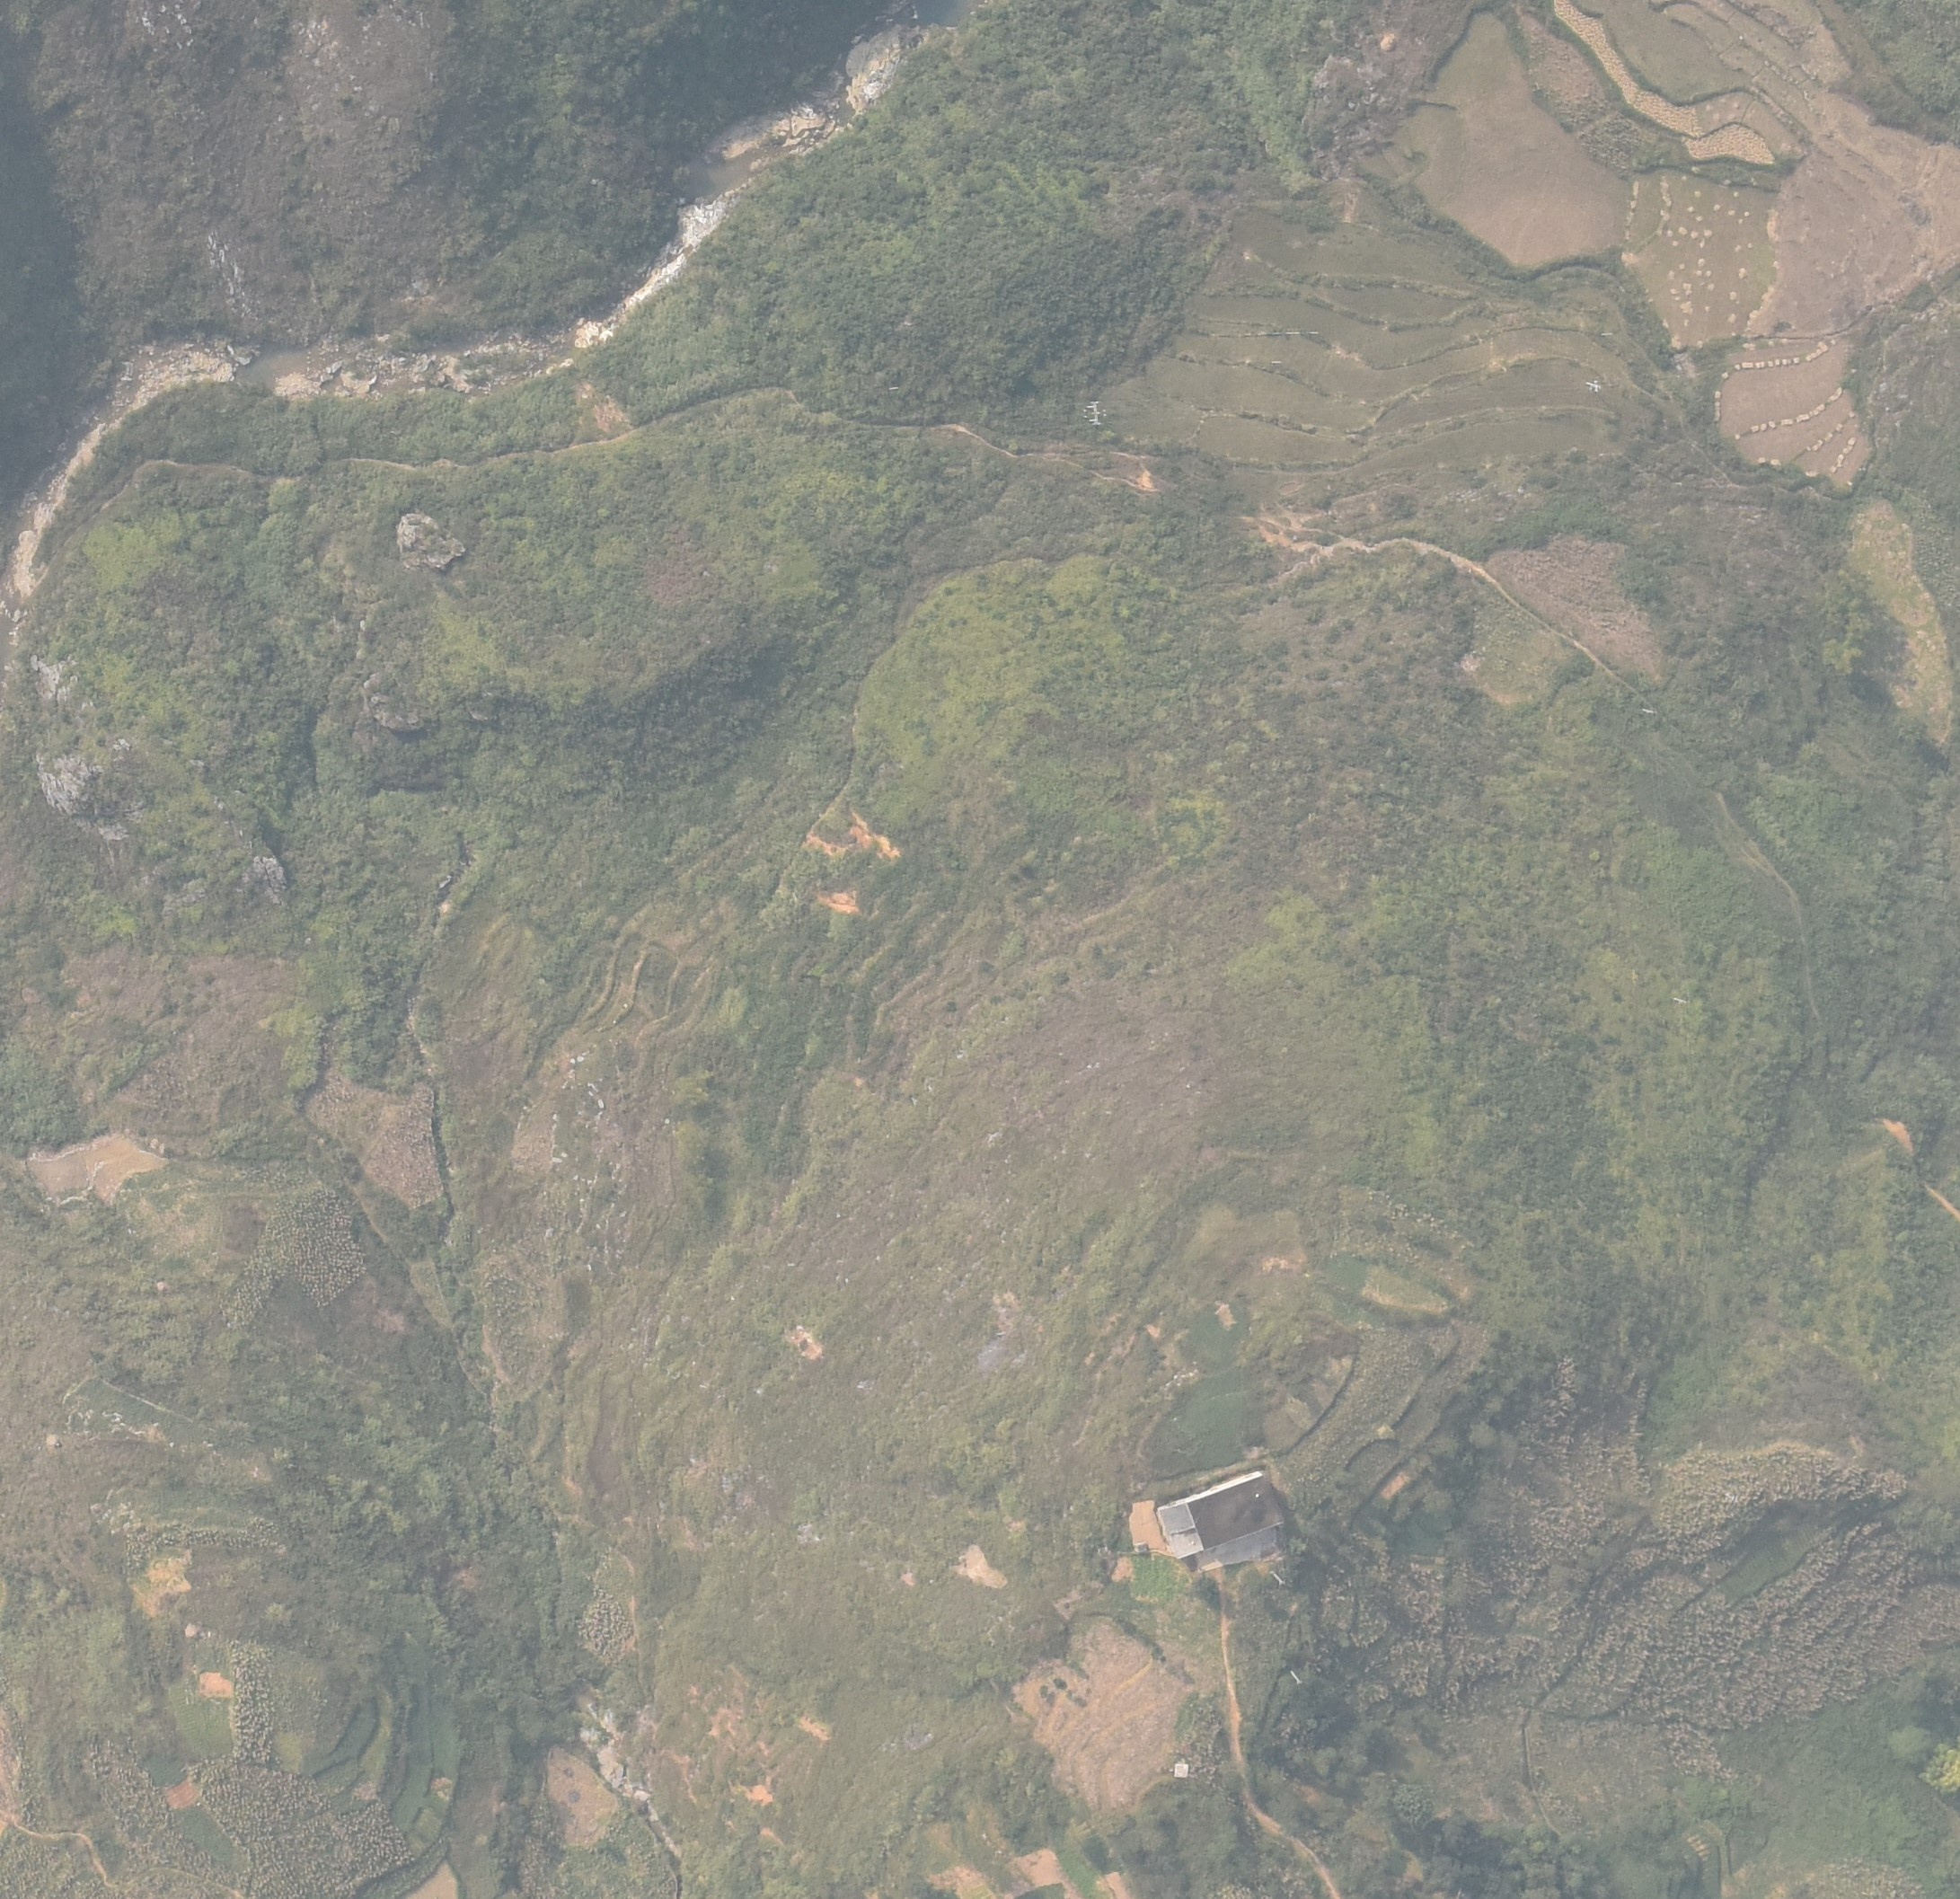building: (1156, 1471, 1283, 1560)
cable-tower: (1082, 401, 1106, 425), (1269, 1570, 1285, 1585), (1585, 380, 1601, 393), (1289, 1670, 1302, 1684), (1726, 1493, 1739, 1504), (1673, 997, 1687, 1005), (1642, 708, 1655, 714)
